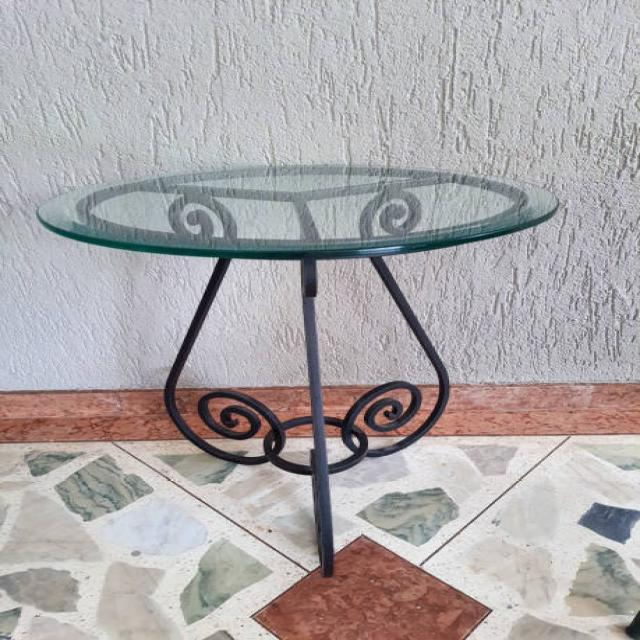table: (34, 163, 560, 576)
